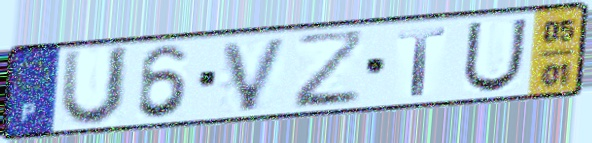6: (133, 42, 192, 122)
T: (396, 25, 449, 99)
U: (56, 43, 135, 129), (459, 16, 531, 95)
V: (218, 34, 293, 115)
Z: (293, 26, 368, 112)
